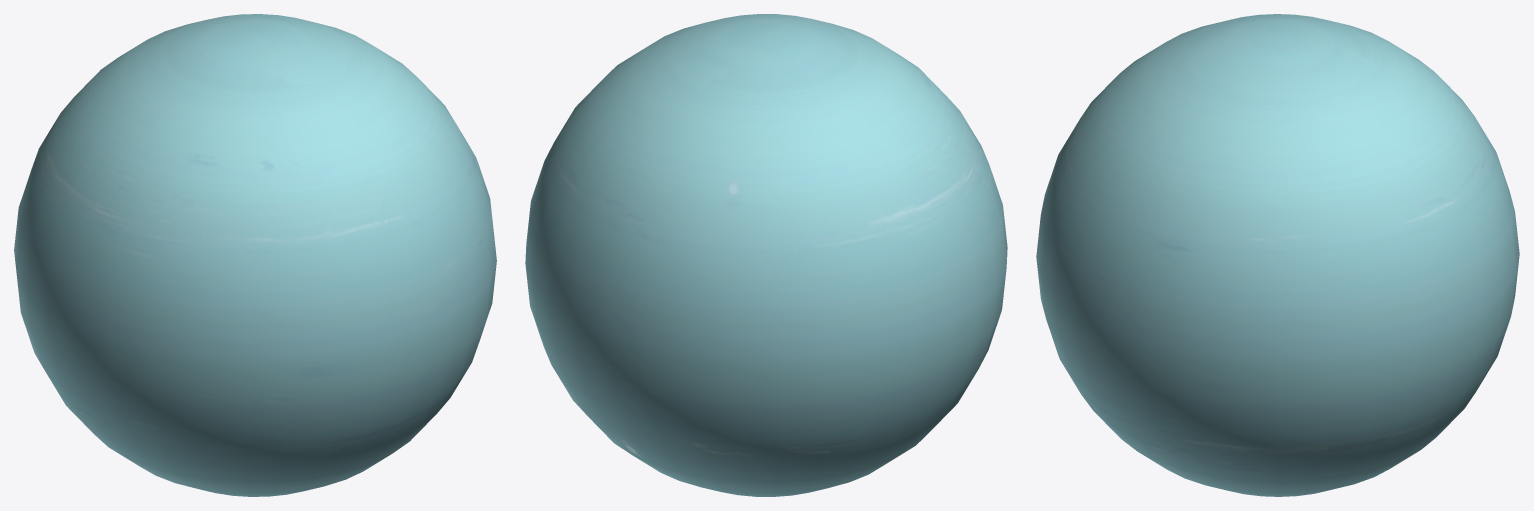
Rendered from tianwangxing.obj.
3 views of the same model, side by side, from view 1: azimuth 30°, elevation 25°; view 2: azimuth 150°, elevation 25°; view 3: azimuth 270°, elevation 25° (orthographic).
Parts seen in each view (by area): view 1: Sphere001; view 2: Sphere001; view 3: Sphere001.
Boxes of the visible parts, x1,y1,x2,y2 form: Sphere001: (14, 14, 496, 496); Sphere001: (525, 14, 1007, 496); Sphere001: (1036, 14, 1519, 496).
Bounding box in the file's own units: 78.32 × 78.33 × 78.32.
1 material, 1 textured.
